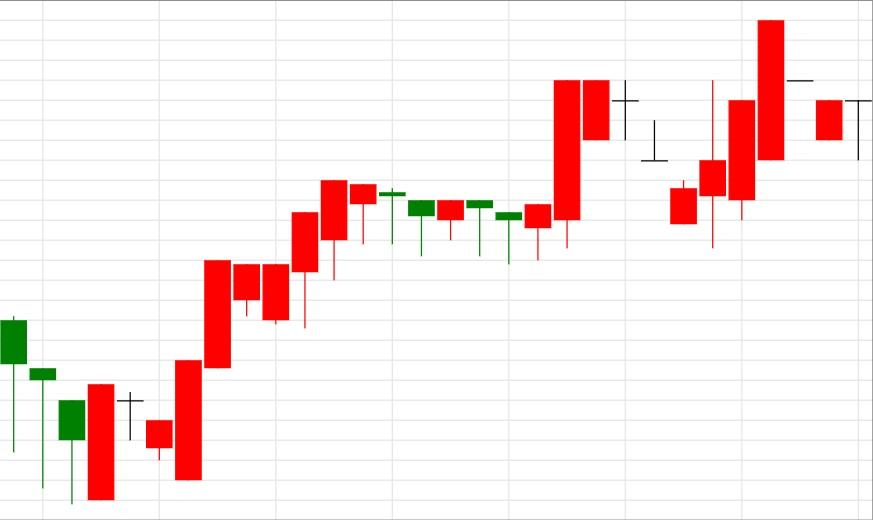bullish_engulfing_rise: (0, 315, 116, 504)
